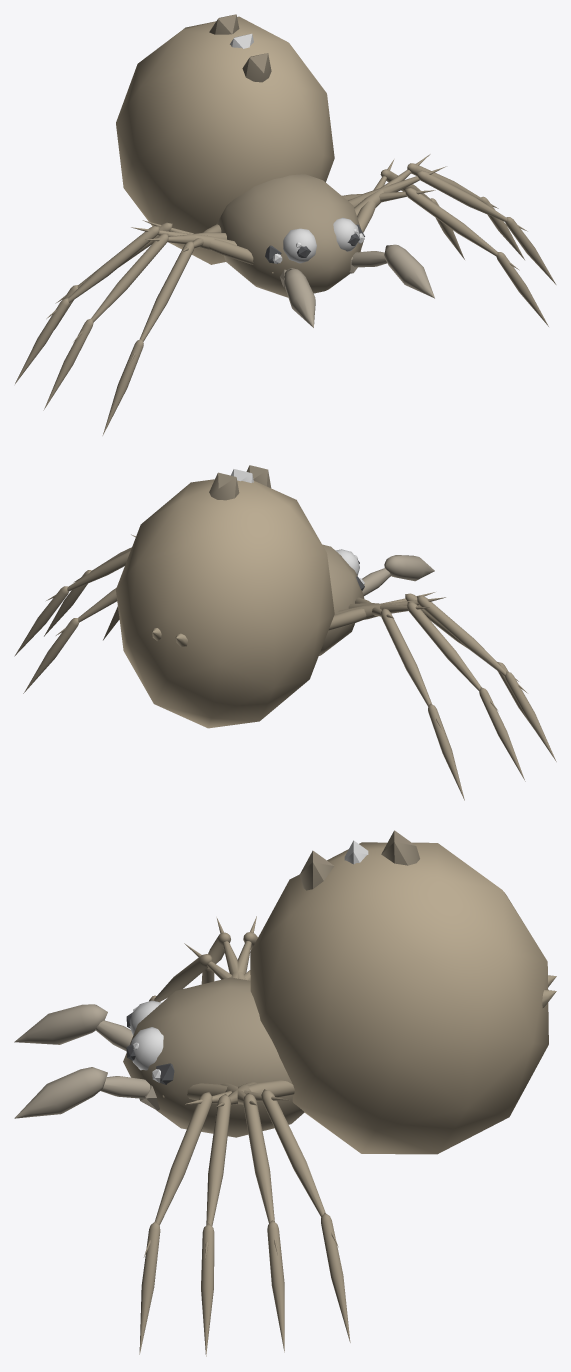
Rendered from heteropoda-venatoria.glb.
The picture shows the model from 3 angles, top to bottom: view 1: azimuth 30°, elevation 25°; view 2: azimuth 150°, elevation 25°; view 3: azimuth 270°, elevation 25°; orthographic projection. The views are drawn at different scales.
Parts seen in each view (by area): view 1: abdomen, cephalothorax, leg1-r0, leg2-r0, leg3-l0, leg2-l0, leg3-r0, palp-l1, leg1-l0, palp-r1, leg0-r0, leg0-l0 (+2 smaller); view 2: abdomen, leg2-r0, leg1-r0, leg0-r0, cephalothorax, leg1-l0, leg0-l0, leg3-r0, palp-r1, leg2-l0, palp-r0; view 3: abdomen, cephalothorax, leg3-l0, leg0-l0, leg2-l0, leg1-l0, palp-l1, palp-r1, leg3-r0, eye0-l, leg2-r0, palp-l0 (+1 smaller).
Part boxes in pixels (x1,y1,x2,y2): abdomen: (116, 14, 334, 264); cephalothorax: (216, 174, 363, 297); leg1-r0: (15, 226, 236, 383); leg2-r0: (43, 232, 226, 410); leg3-l0: (342, 188, 548, 326); leg2-l0: (348, 166, 556, 284); leg3-r0: (102, 224, 221, 435); palp-l1: (384, 244, 434, 298); leg1-l0: (354, 154, 524, 259); palp-r1: (284, 269, 315, 327); leg0-r0: (54, 220, 253, 329); leg0-l0: (357, 159, 464, 259); abdomen: (116, 465, 334, 728); leg2-r0: (336, 596, 556, 761); leg1-r0: (348, 602, 525, 781); leg0-r0: (355, 597, 464, 800); cephalothorax: (319, 544, 364, 655); leg1-l0: (14, 534, 135, 656); leg0-l0: (23, 588, 117, 693); leg3-r0: (328, 592, 531, 725); palp-r1: (384, 555, 434, 581); leg2-l0: (44, 547, 131, 636); palp-r0: (362, 568, 391, 596); abdomen: (250, 830, 548, 1154); cephalothorax: (123, 977, 304, 1137); leg3-l0: (139, 1080, 294, 1354); leg0-l0: (187, 1083, 350, 1342); leg2-l0: (201, 1081, 256, 1356); leg1-l0: (220, 1083, 284, 1352); palp-l1: (14, 1067, 107, 1118); palp-r1: (14, 1004, 107, 1044); leg3-r0: (149, 943, 231, 1002); eye0-l: (126, 1027, 163, 1070); leg2-r0: (201, 917, 246, 984); palp-l0: (100, 1076, 149, 1098).
Bounding box in the file's own units: 0.7282 × 0.3977 × 0.5163.
